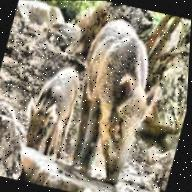boar: (44, 3, 177, 192), (19, 60, 89, 168)
